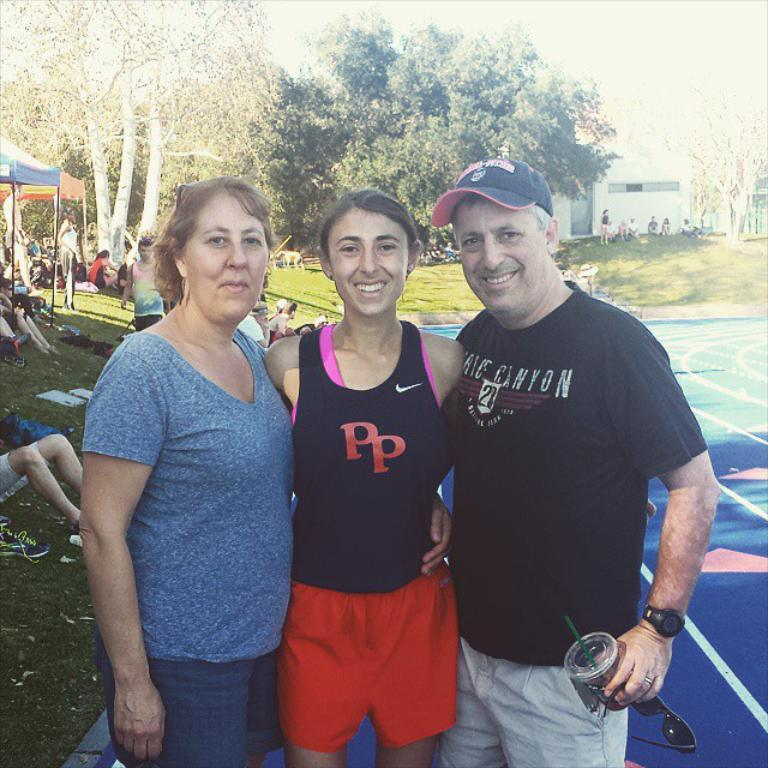Hat: (432, 155, 552, 229)
